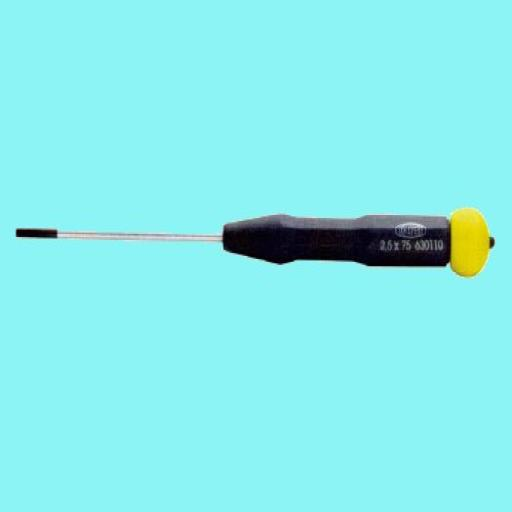screwdriver: (15, 206, 496, 278)
